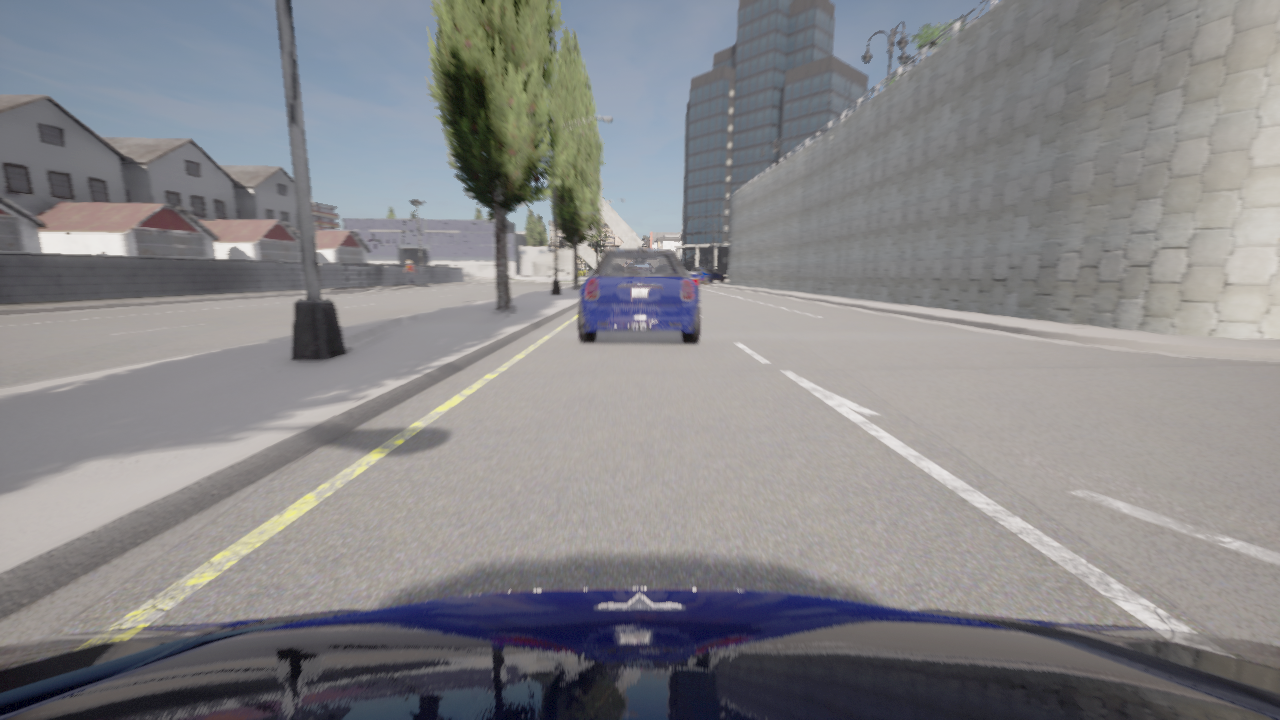cyclist: (0, 588, 1279, 719), (578, 241, 700, 342), (691, 267, 725, 283), (690, 272, 699, 289)
pedestrian: (407, 261, 415, 285), (404, 260, 411, 285)
